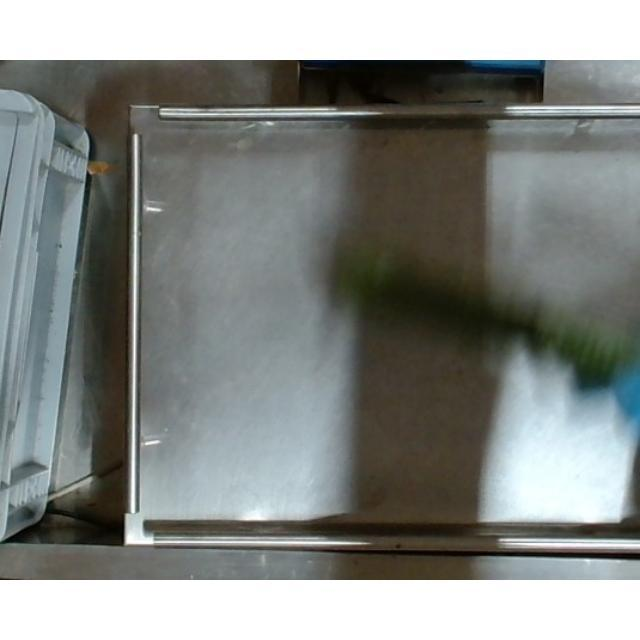cucumber: (320, 242, 640, 390)
